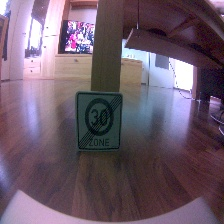dreisiger_zone_ende: (73, 91, 122, 152)
